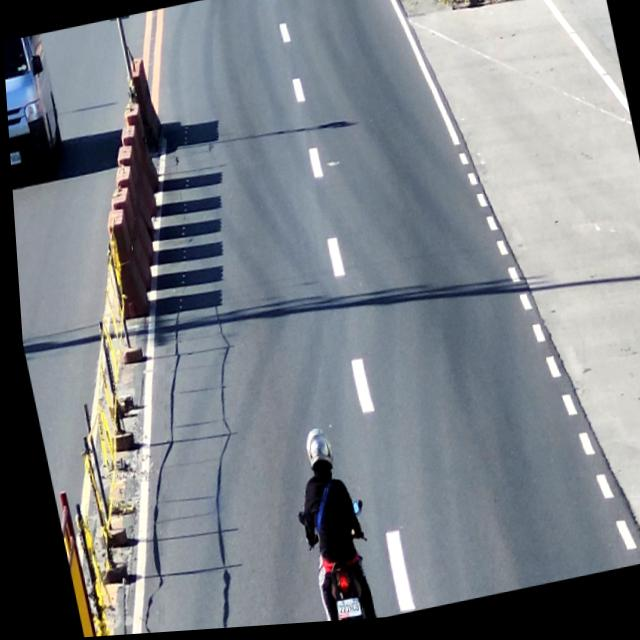License-Plate: (324, 598, 356, 625)
Motorcycle: (265, 415, 382, 627)
